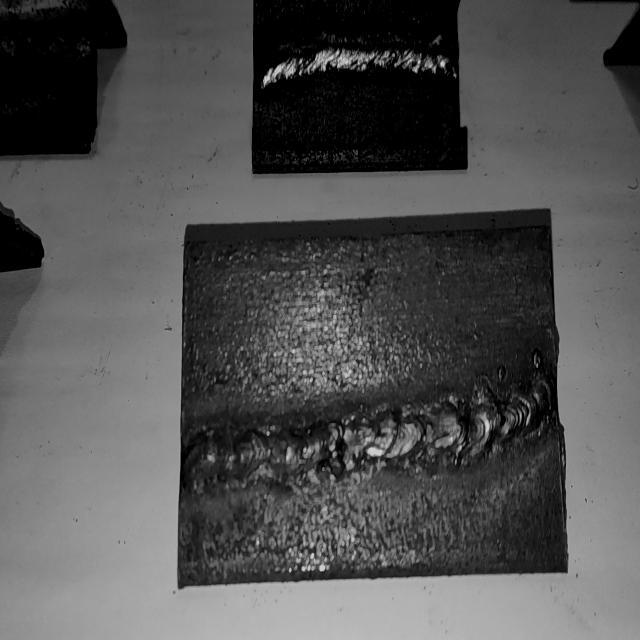Welding Line: (187, 370, 555, 478), (255, 34, 455, 86), (0, 21, 97, 66)
Workpiece: (172, 234, 568, 578), (248, 0, 466, 174), (0, 0, 102, 159)
